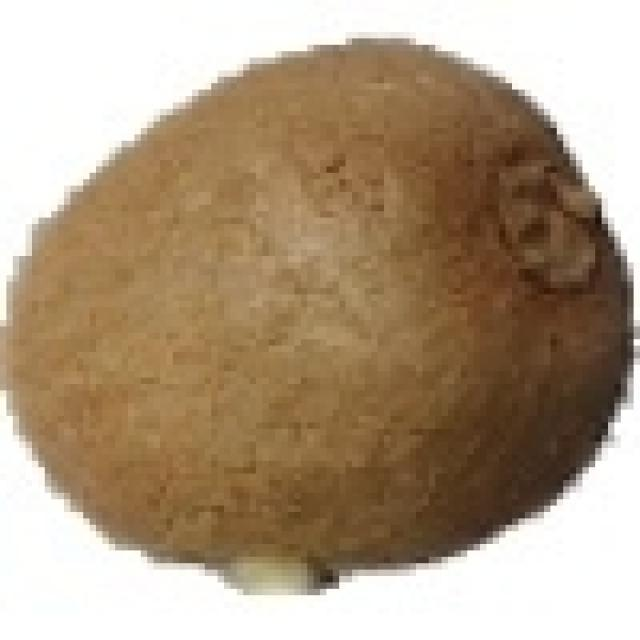kiwi: (6, 32, 621, 576)
